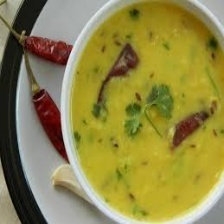dal: (66, 0, 224, 223)
